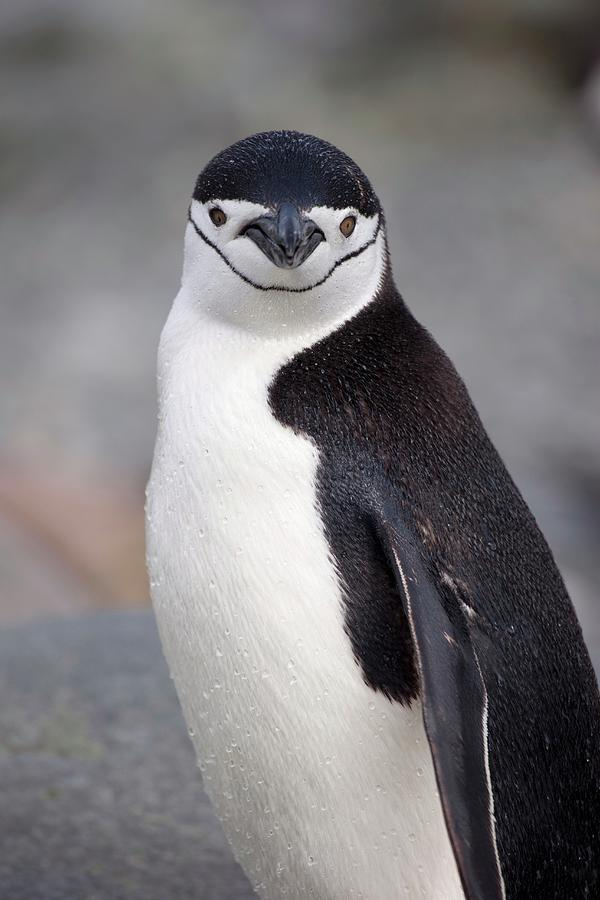chinstrap: (97, 120, 600, 900)
